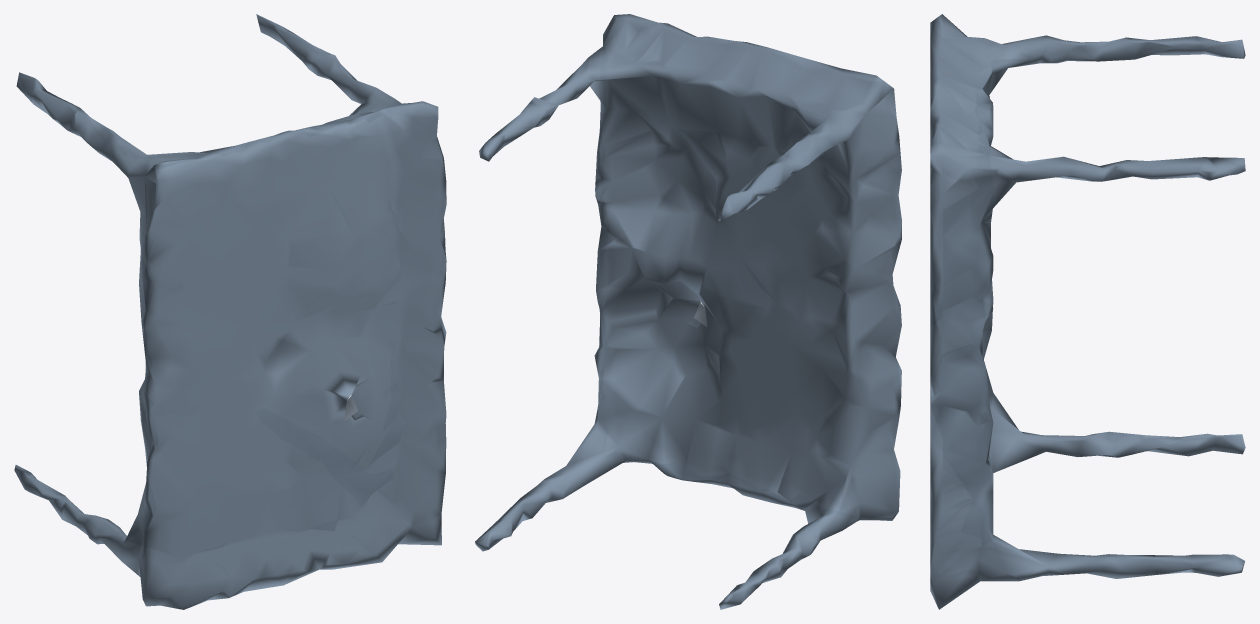
File: table_0422_original.obj
The picture shows the model from 3 angles, left to right: view 1: azimuth 30°, elevation 25°; view 2: azimuth 150°, elevation 25°; view 3: azimuth 270°, elevation 25°; orthographic projection.
Bounding box in the file's own units: 0.9134 × 1.3 × 0.8157.
